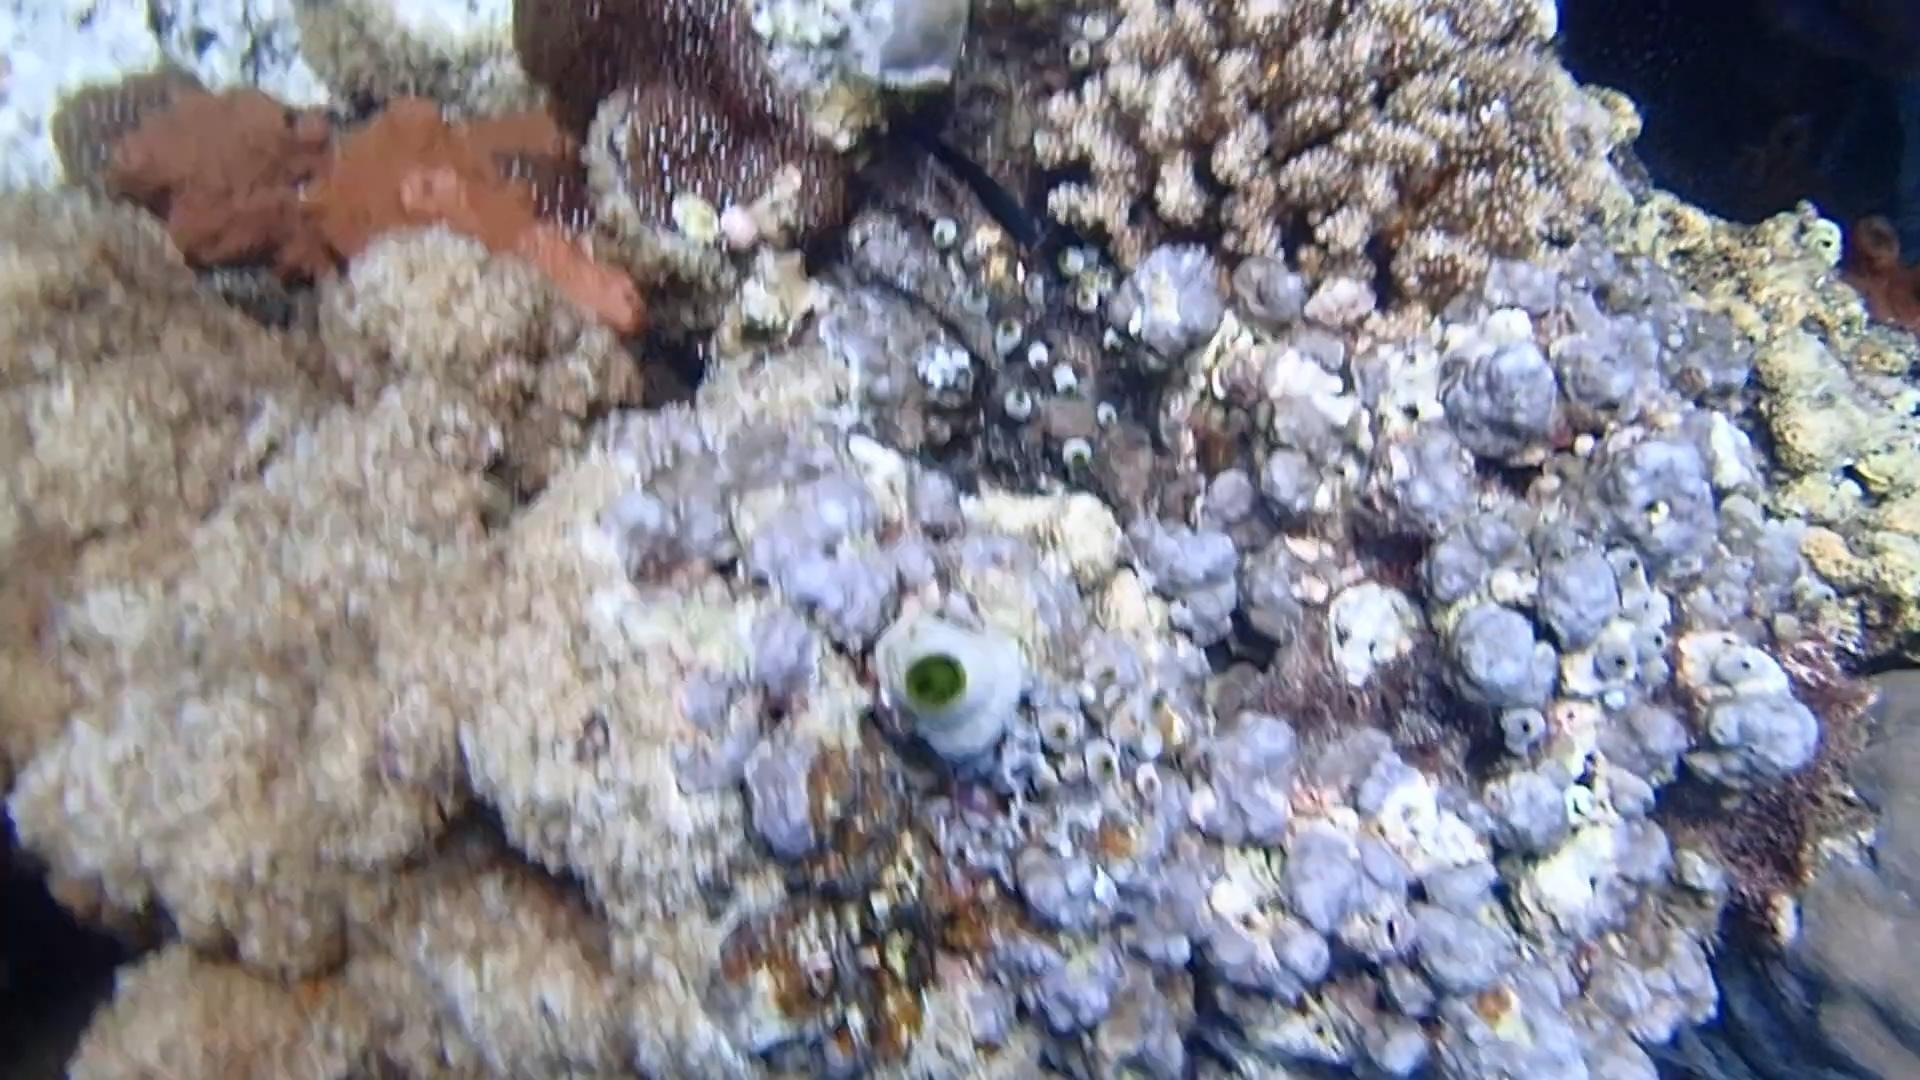Dark Fish: (882, 99, 1047, 258)
